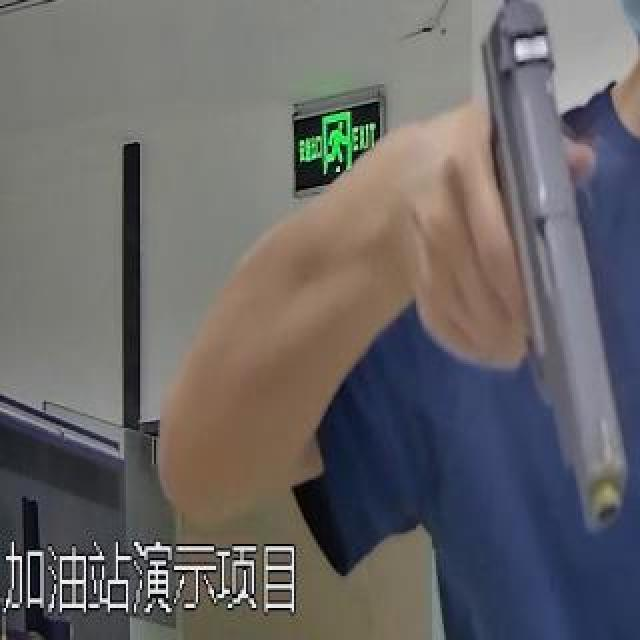Guns: (428, 0, 640, 554)
